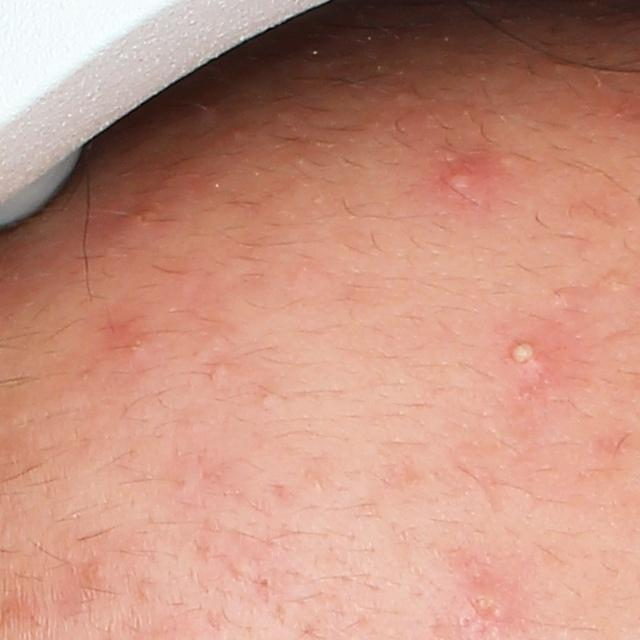comedo: (210, 361, 237, 383), (258, 575, 272, 589)
pustule: (500, 328, 558, 392), (456, 580, 516, 638)
